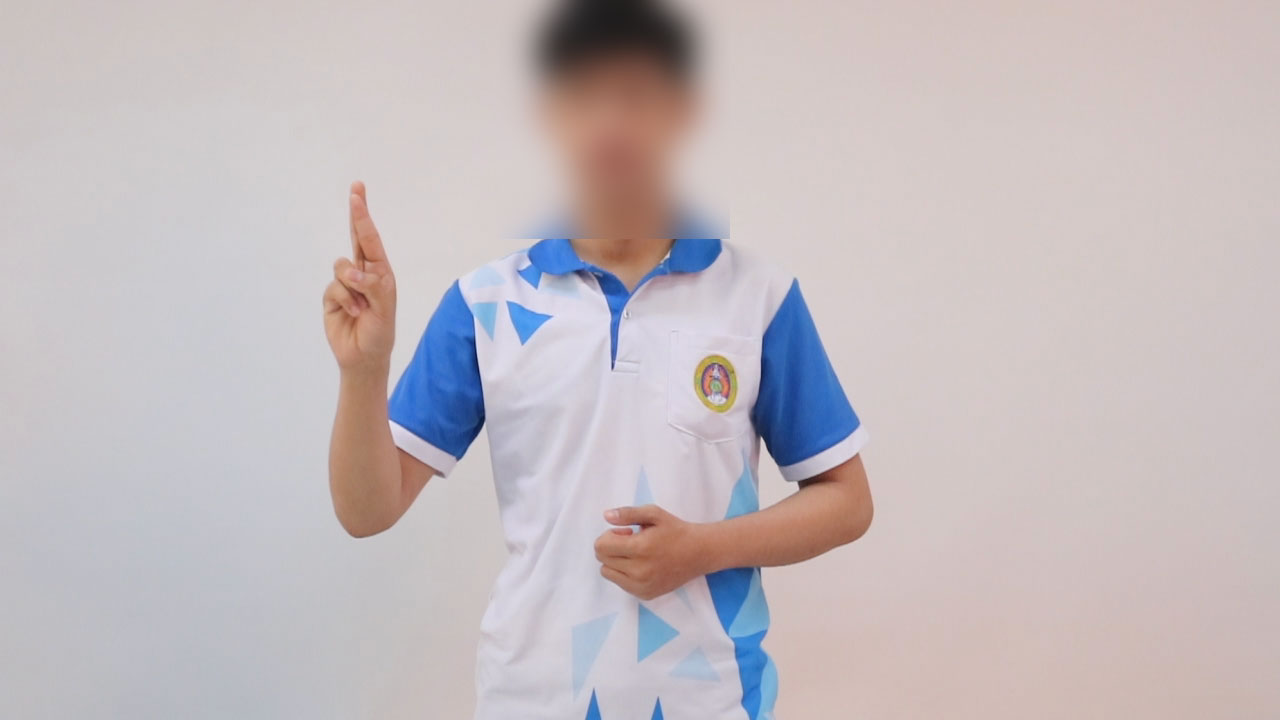rao: (299, 175, 413, 380)
